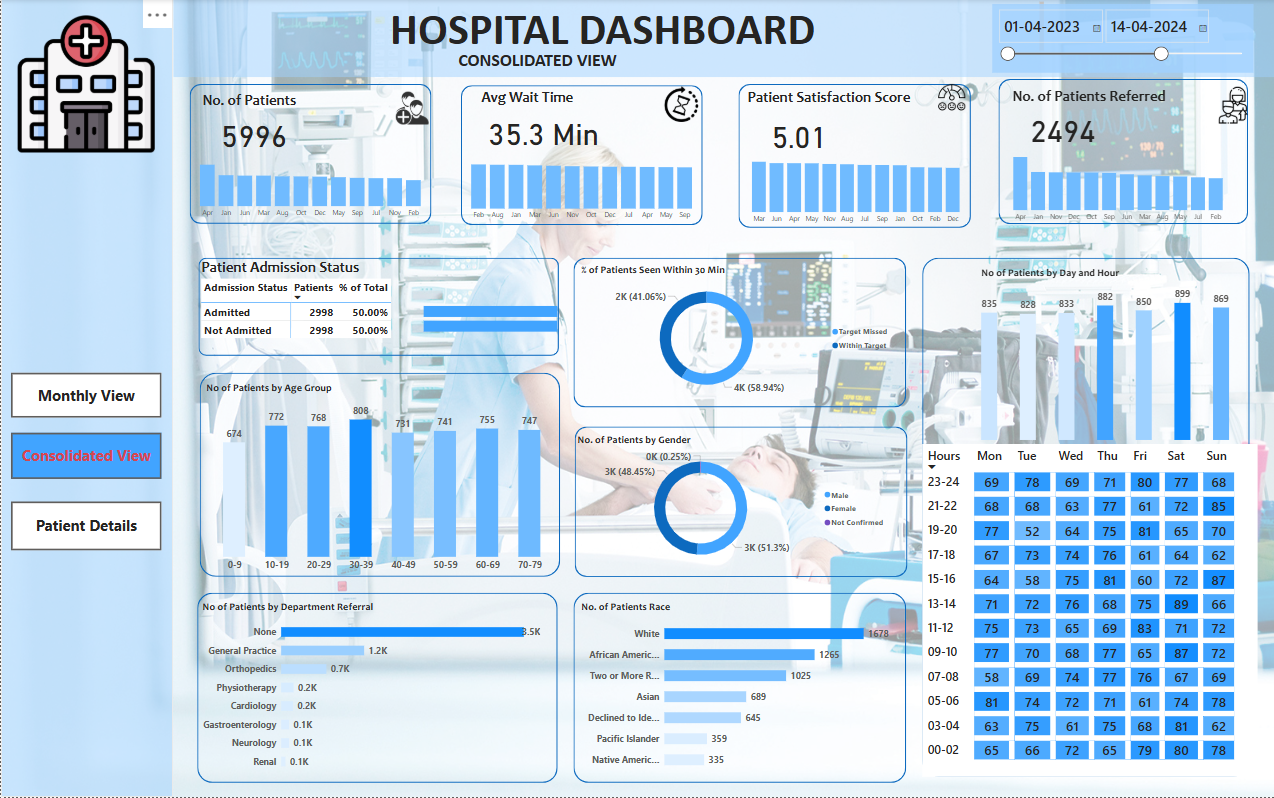

This screenshot's page, from the dashboard's own definition file:
{"tool":"powerbi","page":{"name":"Consolidated View","canvas":[2300,1440],"ordinal":1},"visuals":[{"type":"shape","box":[0,0,310,1440],"z":0},{"type":"card","fields":{"Values":["Hospital_Data.Number of Patients"]},"box":[359,210.3,194.9,64.1],"z":1000},{"type":"shape","box":[310.3,0,1989.7,141],"z":2000},{"type":"textbox","box":[359,159,230.8,51.3],"z":3000},{"type":"textbox","box":[310.3,0,1574.4,102.6],"z":4000},{"type":"shape","box":[340.5,152.4,435.7,252.4],"z":5000},{"type":"textbox","box":[310.3,84.6,1312.8,76.9],"z":6000},{"type":"columnChart","fields":{"Category":["Data Table.Month Name"],"Y":["Hospital_Data.Number of Patients"]},"box":[340.5,273.8,435.7,131],"z":7000},{"type":"columnChart","fields":{"Category":["Data Table.Month Name"],"Y":["Hospital_Data.Patient SScore"]},"box":[1336,268.7,410.3,146.2],"z":8000},{"type":"slicer","fields":{"Values":["Data Table.Date"]},"box":[1788.1,9.5,471.4,123.8],"z":9000},{"type":"card","fields":{"Values":["Hospital_Data.Patient SScore"]},"box":[1341,189.7,194.9,107.7],"z":11000},{"type":"card","fields":{"Values":["Hospital_Data.Avg Wait Time"]},"box":[861.5,202.6,235.9,69.2],"z":12000},{"type":"textbox","box":[1340.5,154.8,321.4,42.9],"z":13000},{"type":"textbox","box":[862.2,156.4,302.6,51.3],"z":14000},{"type":"shape","box":[1331,152.4,419,259.5],"z":15000},{"type":"shape","box":[828.6,154.8,435.7,252.4],"z":16000},{"type":"card","fields":{"Values":["Hospital_Data.No of Patient Referred"]},"box":[1816.4,198.2,196.6,66.5],"z":16000,"group":"g1"},{"type":"textbox","box":[1817.8,152.4,434.5,49.3],"z":17000,"group":"g1"},{"type":"columnChart","fields":{"Category":["Data Table.Month Name"],"Y":["Avg(Hospital_Data.Patient Waittime)"]},"box":[828.6,276.2,435.7,131],"z":17000},{"type":"group","id":"g1","title":"Group 5","box":[1807.1,152.4,445.2,257.1],"z":18000},{"type":"columnChart","fields":{"Category":["Data Table.Month Name"],"Y":["Hospital_Data.No of Patient Referred"]},"box":[1807.1,269.1,413.8,140.4],"z":18000,"group":"g1"},{"type":"shape","box":[1800,145.2,450,261.9],"z":19000},{"type":"pivotTable","title":"Patient Admission Status","fields":{"Rows":["Hospital_Data.Admission Status"],"Values":["Hospital_Data.Number of Patients1","Hospital_Data.Number of Patients"]},"box":[356.4,466.7,651.3,176.9],"z":20000},{"type":"shape","box":[356.4,466.7,650,177],"z":21000},{"type":"barChart","fields":{"Category":["Hospital_Data.Admission Status"],"Y":["Hospital_Data.Number of Patients"]},"box":[756.4,528.2,251.3,92.3],"z":22000},{"type":"shape","box":[359.5,673.8,650,368],"z":23000},{"type":"clusteredColumnChart","title":"No of Patients by Age Group","fields":{"Category":["Hospital_Data.Age Group"],"Y":["Hospital_Data.Number of Patients"]},"box":[364.3,690.5,645.2,352.4],"z":24000},{"type":"barChart","title":"No. of Patients Race","fields":{"Category":["Hospital_Data.Patient Race"],"Y":["Hospital_Data.Number of Patients"]},"box":[1040.5,1083.3,566.7,319],"z":25000},{"type":"shape","box":[354.8,1071.4,650,342.9],"z":26000},{"type":"shape","box":[1033.3,466.7,600,270],"z":27000},{"type":"donutChart","title":"% of Patients Seen Within 30 Min","fields":{"Category":["Hospital_Data.Waittime Status"],"Y":["Hospital_Data.Number of Patients"]},"box":[1040.5,476.2,571.4,250],"z":28000},{"type":"shape","box":[1035.7,771.4,600,271.4],"z":29000},{"type":"donutChart","title":"No. of Patients by Gender","fields":{"Category":["Hospital_Data.Patient Gender"],"Y":["Hospital_Data.Number of Patients"]},"box":[1035.7,783.3,571.4,250],"z":30000},{"type":"shape","box":[1033.3,1071.4,600,342.9],"z":31000},{"type":"barChart","title":"No of Patients by Department Referral","fields":{"Category":["Hospital_Data.Department Referral"],"Y":["Hospital_Data.Number of Patients"]},"box":[359.5,1083.3,619,319],"z":32000},{"type":"shape","box":[1661.9,466.7,590.5,935.7],"z":33000},{"type":"pivotTable","fields":{"Rows":["Hospital_Data.Waittime Interval"],"Values":["Hospital_Data.Number of Patients"],"Columns":["Data Table.Day NBame"]},"box":[1661.9,802.4,604.8,600],"z":34000},{"type":"columnChart","title":"No of Patients by Day and Hour","fields":{"Category":["Data Table.Day NBame"],"Y":["Hospital_Data.Number of Patients"]},"box":[1761.9,483.3,459.5,319],"z":35000},{"type":"image","box":[19,23.8,271.4,257.1],"z":36000},{"type":"image","box":[704.8,161.9,71.4,69],"z":37000},{"type":"image","box":[1190.5,147.6,73.8,85.7],"z":38000},{"type":"image","box":[1683.3,147.6,61.9,61.9],"z":39000},{"type":"image","box":[2183.3,150,76.2,81],"z":40000},{"type":"textbox","box":[19,673.8,271.4,81],"z":40001},{"type":"textbox","box":[19,783.3,271.4,83.3],"z":40002},{"type":"textbox","box":[19,909.5,271.4,85.7],"z":40003},{"type":"actionButton","box":[19,673.8,271.4,81],"z":40004},{"type":"actionButton","box":[19,783.3,271.4,83.3],"z":40005},{"type":"actionButton","box":[19,907.1,271.4,88.1],"z":40006}]}

Visuals, with their boxes in screenshot pixels (x1, y1, x2, y2), scaled from the page's 2300x1440 canvas onto the 1274x798 screenshot:
shape: <bbox>0, 0, 172, 797</bbox>
card - Hospital_Data.Number of Patients: <bbox>199, 117, 307, 152</bbox>
shape: <bbox>172, 0, 1273, 78</bbox>
textbox: <bbox>199, 88, 327, 117</bbox>
textbox: <bbox>172, 0, 1044, 57</bbox>
shape: <bbox>189, 84, 430, 224</bbox>
textbox: <bbox>172, 47, 899, 89</bbox>
columnChart - Data Table.Month Name x Hospital_Data.Number of Patients: <bbox>189, 152, 430, 224</bbox>
columnChart - Data Table.Month Name x Hospital_Data.Patient SScore: <bbox>740, 149, 967, 230</bbox>
slicer - Data Table.Date: <bbox>990, 5, 1252, 74</bbox>
card - Hospital_Data.Patient SScore: <bbox>743, 105, 851, 165</bbox>
card - Hospital_Data.Avg Wait Time: <bbox>477, 112, 608, 151</bbox>
textbox: <bbox>743, 86, 921, 110</bbox>
textbox: <bbox>478, 87, 645, 115</bbox>
shape: <bbox>737, 84, 969, 228</bbox>
shape: <bbox>459, 86, 700, 226</bbox>
card - Hospital_Data.No of Patient Referred: <bbox>1006, 110, 1115, 147</bbox>
textbox: <bbox>1007, 84, 1248, 112</bbox>
columnChart - Data Table.Month Name x Avg(Hospital_Data.Patient Waittime): <bbox>459, 153, 700, 226</bbox>
"Group 5" group: <bbox>1001, 84, 1248, 227</bbox>
columnChart - Data Table.Month Name x Hospital_Data.No of Patient Referred: <bbox>1001, 149, 1230, 227</bbox>
shape: <bbox>997, 80, 1246, 226</bbox>
"Patient Admission Status" pivotTable: <bbox>197, 259, 558, 357</bbox>
shape: <bbox>197, 259, 557, 357</bbox>
barChart - Hospital_Data.Admission Status x Hospital_Data.Number of Patients: <bbox>419, 293, 558, 344</bbox>
shape: <bbox>199, 373, 559, 577</bbox>
"No of Patients by Age Group" clusteredColumnChart: <bbox>202, 383, 559, 578</bbox>
"No. of Patients Race" barChart: <bbox>576, 600, 890, 777</bbox>
shape: <bbox>197, 594, 557, 784</bbox>
shape: <bbox>572, 259, 905, 408</bbox>
"% of Patients Seen Within 30 Min" donutChart: <bbox>576, 264, 893, 402</bbox>
shape: <bbox>574, 427, 906, 578</bbox>
"No. of Patients by Gender" donutChart: <bbox>574, 434, 890, 573</bbox>
shape: <bbox>572, 594, 905, 784</bbox>
"No of Patients by Department Referral" barChart: <bbox>199, 600, 542, 777</bbox>
shape: <bbox>921, 259, 1248, 777</bbox>
pivotTable - Hospital_Data.Waittime Interval x Hospital_Data.Number of Patients: <bbox>921, 445, 1256, 777</bbox>
"No of Patients by Day and Hour" columnChart: <bbox>976, 268, 1230, 445</bbox>
image: <bbox>11, 13, 161, 156</bbox>
image: <bbox>390, 90, 430, 128</bbox>
image: <bbox>659, 82, 700, 129</bbox>
image: <bbox>932, 82, 967, 116</bbox>
image: <bbox>1209, 83, 1252, 128</bbox>
textbox: <bbox>11, 373, 161, 418</bbox>
textbox: <bbox>11, 434, 161, 480</bbox>
textbox: <bbox>11, 504, 161, 552</bbox>
actionButton: <bbox>11, 373, 161, 418</bbox>
actionButton: <bbox>11, 434, 161, 480</bbox>
actionButton: <bbox>11, 503, 161, 552</bbox>
